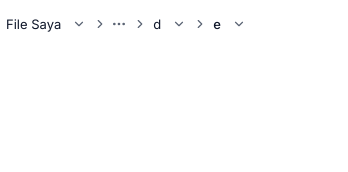
<Breadcrumb> › shows an ellipsis menu with hidden segments for deep paths
The image size is (348, 172).
Expected: the link "b" is not shown
Click the button with test id "crumb-ellipsis".
click(119, 24)  # box [107,14,131,34]
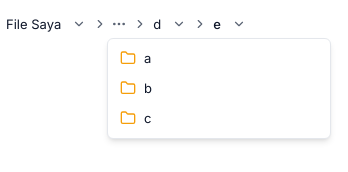
Expected: the menu item "b" is shown, [120,80,152,96]
